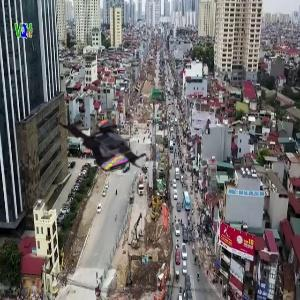drone: (58, 96, 148, 186)
